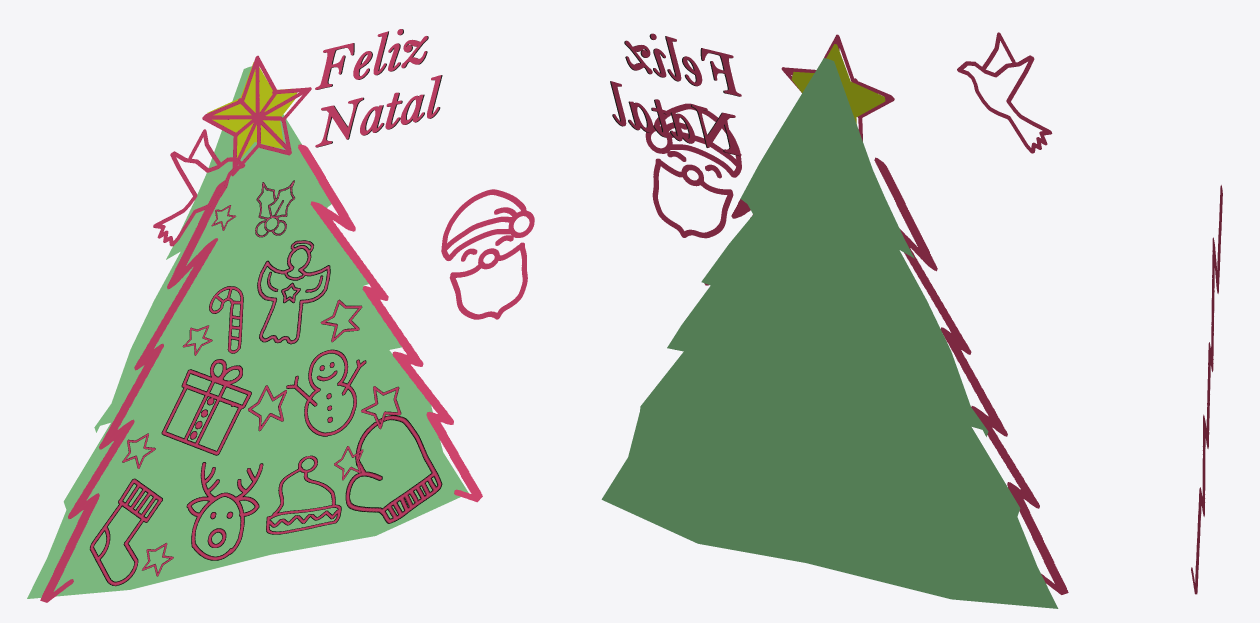
File: arvoreNatal.glb
3 renders of one model, left to right at view 1: azimuth 30°, elevation 25°; view 2: azimuth 150°, elevation 25°; view 3: azimuth 270°, elevation 25°, orthographic. The views are drawn at different scales.
Parts seen in each view (by area): view 1: Plane.004, Plane.001, Plane.002, feliz, papai.001, star, presente, Plane, mao, veado, papai, pe (+5 smaller); view 2: Plane.004, Plane.001, feliz, papai.001, passaro, Plane, star; view 3: Plane.002.
Part boxes in pixels (left/top/right/bottom): Plane.004: left=27, top=66, right=468, bottom=598; Plane.001: left=40, top=180, right=225, bottom=602; Plane.002: left=298, top=144, right=482, bottom=502; feliz: left=315, top=29, right=442, bottom=147; papai.001: left=441, top=189, right=534, bottom=319; star: left=202, top=55, right=311, bottom=176; presente: left=161, top=359, right=251, bottom=455; Plane: left=207, top=62, right=296, bottom=157; mao: left=345, top=415, right=442, bottom=523; veado: left=186, top=462, right=263, bottom=560; papai: left=257, top=240, right=330, bottom=344; pe: left=89, top=478, right=162, bottom=586; Plane.004: left=601, top=58, right=1058, bottom=608; Plane.001: left=874, top=157, right=1068, bottom=594; feliz: left=610, top=33, right=741, bottom=156; papai.001: left=645, top=103, right=741, bottom=238; passaro: left=957, top=32, right=1052, bottom=153; Plane: left=791, top=44, right=885, bottom=123; star: left=781, top=34, right=894, bottom=141; Plane.002: left=1191, top=185, right=1222, bottom=594.
Bounding box in the file's own units: 2.07 × 2.08 × 0.4886.
18 materials, 16 textured.
